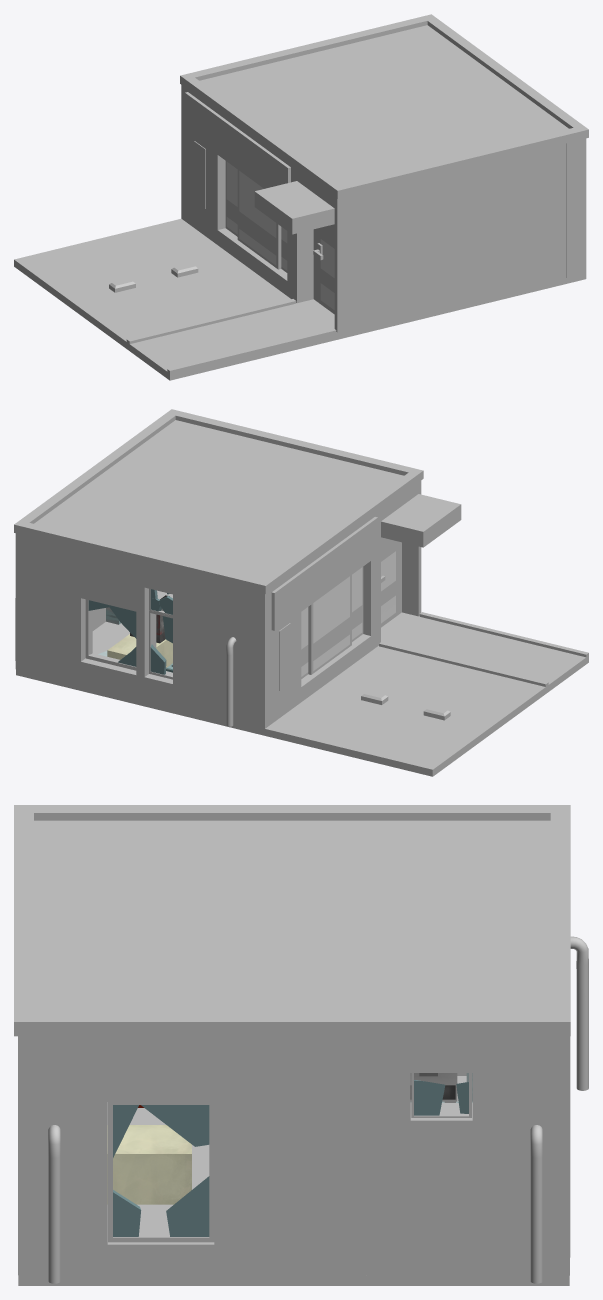
Rendered from Vet.fbx.
3 views of the same model, one above another, from view 1: azimuth 30°, elevation 25°; view 2: azimuth 150°, elevation 25°; view 3: azimuth 270°, elevation 25° (orthographic). The views are drawn at different scales.
Visible parts, largest first — view 1: Ceiling, Ground, Wall_Side, Wall_Front, SignBig, Wall_Back, Cube.001, Door, Cube.007, Sign; view 2: Ceiling, Ground, Wall_Side.001, Wall_Front, SignBig, Cube.001, Wall_Back, Door, Cube.009_cell.006, Cube.008, Cube.016, Sign (+4 smaller); view 3: Ceiling, Wall_Back, Ground, Cube.017, Cube.011_cell.005, Cube.003, Vert.002, Vert.001, Vert.003, Cube.010_cell.002, Cash.
Part boxes in pixels (bbox=[...]): Ceiling: bbox=[180, 14, 588, 198]; Ground: bbox=[14, 218, 586, 380]; Wall_Side: bbox=[357, 143, 565, 328]; Wall_Front: bbox=[181, 85, 357, 333]; SignBig: bbox=[185, 92, 290, 188]; Wall_Back: bbox=[566, 138, 586, 277]; Cube.001: bbox=[237, 170, 281, 269]; Door: bbox=[313, 224, 334, 314]; Cube.007: bbox=[225, 161, 237, 236]; Sign: bbox=[194, 141, 205, 208]; Ceiling: bbox=[14, 409, 423, 594]; Ground: bbox=[16, 590, 588, 776]; Wall_Side.001: bbox=[36, 538, 245, 724]; Wall_Front: bbox=[245, 481, 461, 729]; SignBig: bbox=[271, 517, 377, 630]; Cube.001: bbox=[308, 575, 351, 674]; Wall_Back: bbox=[15, 533, 105, 673]; Door: bbox=[381, 537, 397, 627]; Cube.009_cell.006: bbox=[88, 600, 136, 666]; Cube.008: bbox=[352, 567, 363, 641]; Cube.016: bbox=[107, 634, 172, 667]; Sign: bbox=[279, 623, 290, 690]; Ceiling: bbox=[14, 805, 570, 1036]; Wall_Back: bbox=[18, 1036, 569, 1275]; Ground: bbox=[18, 1076, 569, 1285]; Cube.017: bbox=[107, 1125, 191, 1204]; Cube.011_cell.005: bbox=[113, 1105, 209, 1236]; Cube.003: bbox=[108, 1102, 214, 1242]; Vert.002: bbox=[48, 1125, 60, 1283]; Vert.001: bbox=[530, 1125, 542, 1283]; Vert.003: bbox=[570, 936, 588, 1090]; Cube.010_cell.002: bbox=[414, 1080, 468, 1115]; Cash: bbox=[410, 1073, 457, 1102].
Size of the model in its own units: 1261 by 425 by 835.
